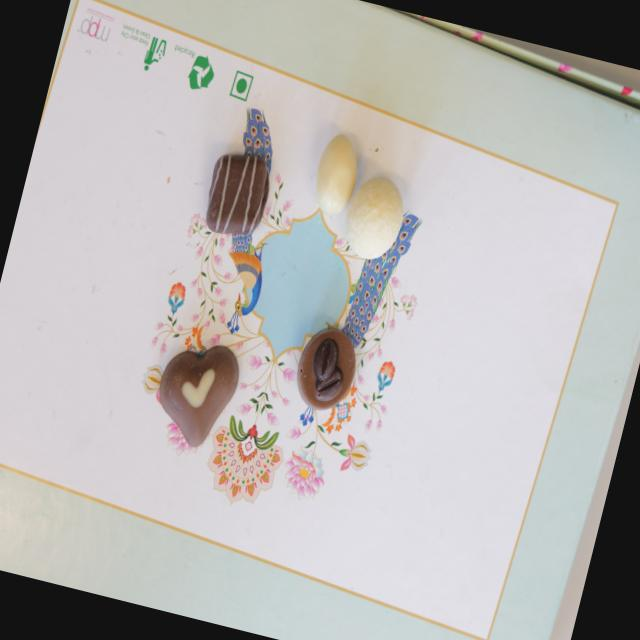Arabia: (290, 322, 364, 416)
Comtesse: (338, 170, 412, 268)
Jelly_White: (309, 132, 366, 216)
Passion_au_lait: (146, 334, 245, 453)
Tentation_noir: (199, 146, 277, 244)
